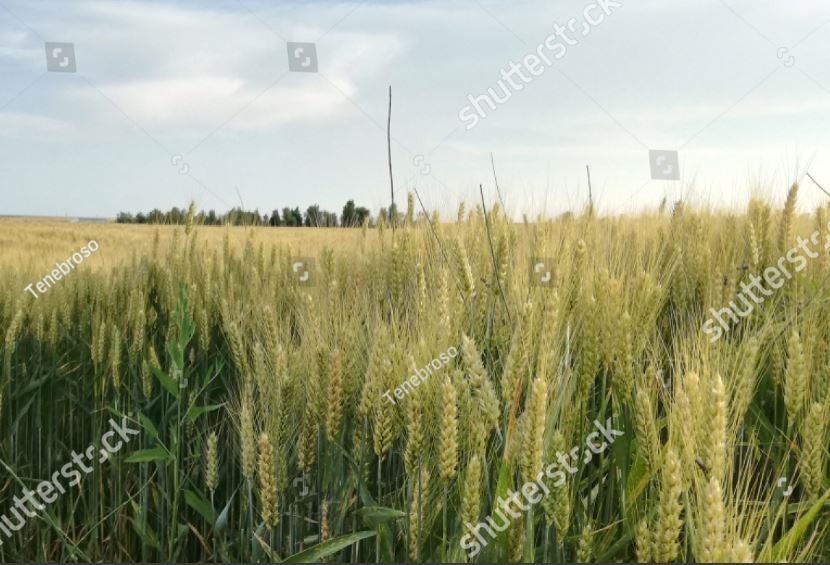Wheat: (98, 215, 775, 544)
